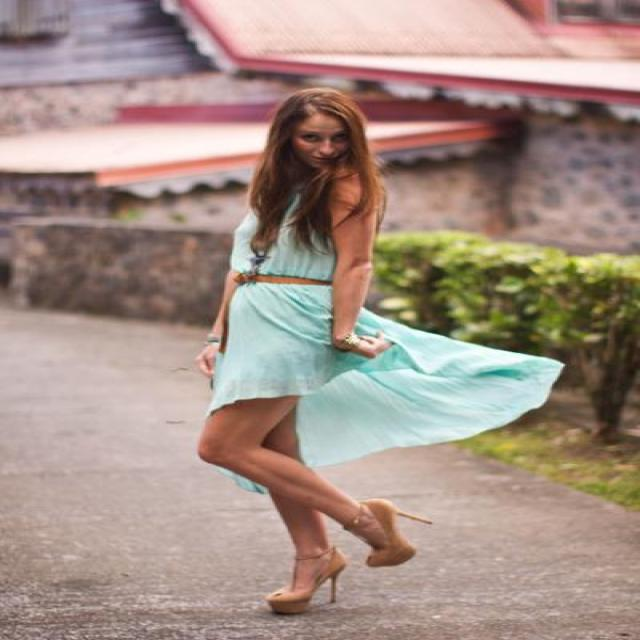dress: (195, 195, 563, 467)
shoe: (264, 504, 413, 618)
